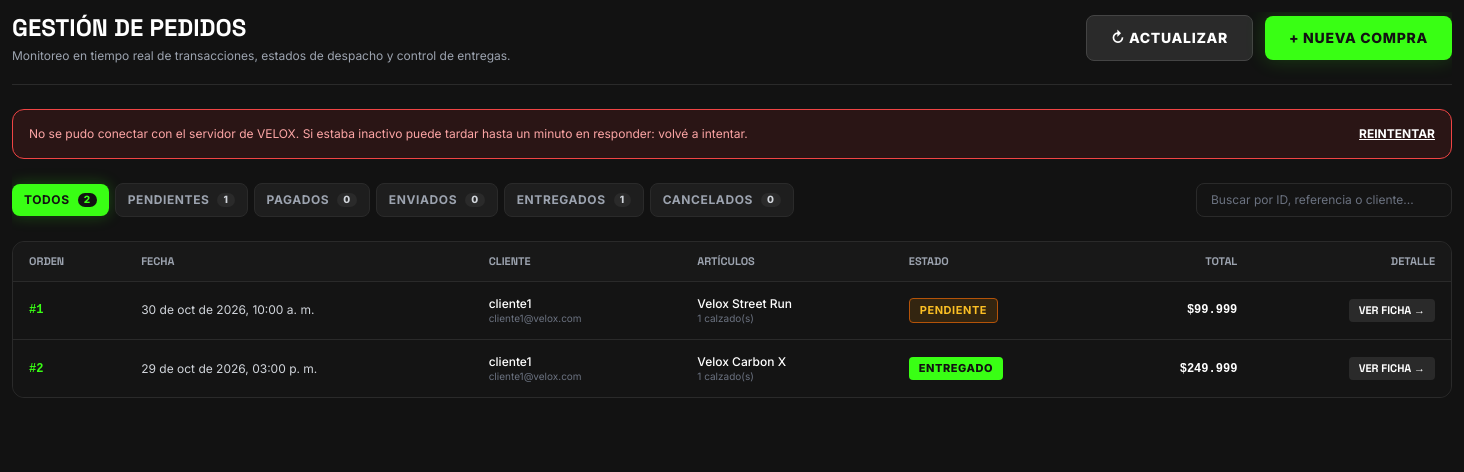
Test: Dashboard Pedidos (/dashboard/pedidos - R1) - Listado Reactivo y Filtros › muestra el empty state cuando no hay pedidos coincidentes
Expected: the text "#1" is shown, [13,281,125,340]
// Filtrar por CANCELADOS (no hay ninguno)
Click the tab "CANCELADOS 0".
click(722, 200)  # box [650,183,794,217]
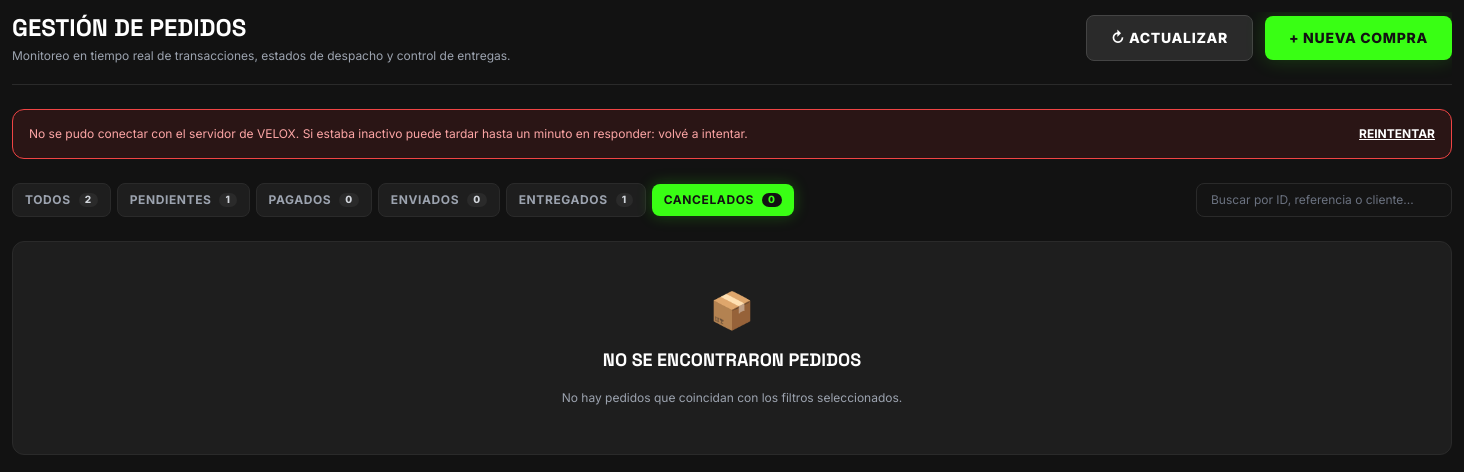
Now the heading "NO SE ENCONTRARON PEDIDOS" is shown, box [603,348,861,371]
